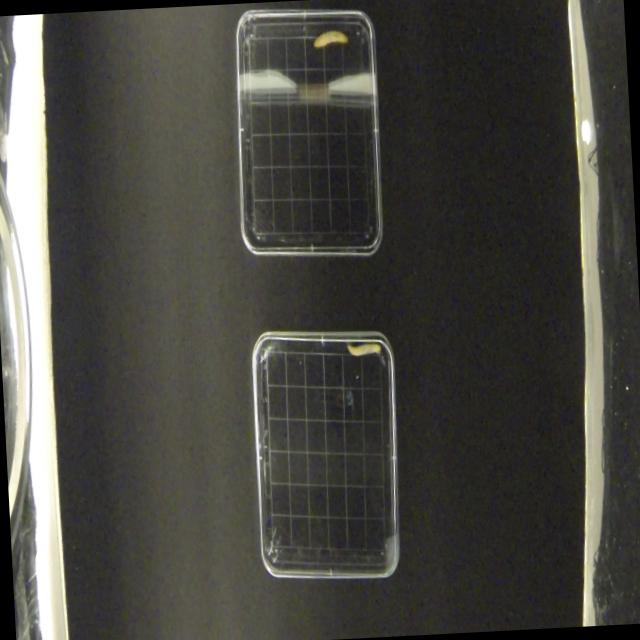larva: (312, 28, 348, 48)
